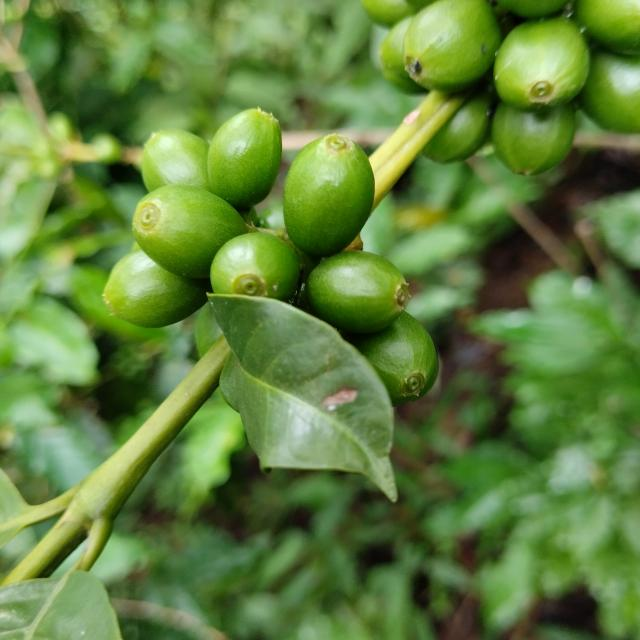green: (283, 133, 375, 257), (132, 184, 248, 278), (494, 15, 591, 111), (404, 0, 503, 92), (305, 250, 411, 333), (347, 311, 439, 406), (102, 249, 210, 328), (207, 107, 282, 209), (210, 232, 300, 301), (492, 102, 577, 174), (578, 51, 640, 132), (422, 92, 493, 162), (141, 130, 210, 191), (380, 15, 425, 93), (576, 0, 640, 54)
